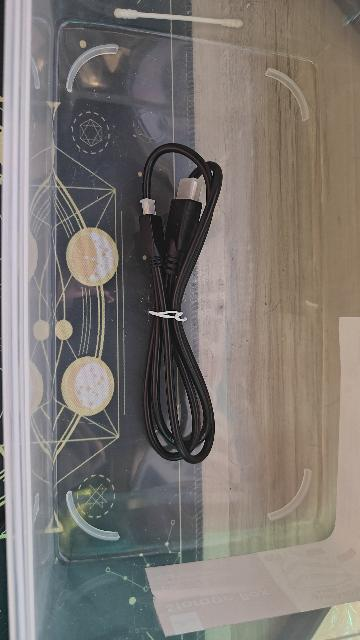hdmi_cable: (132, 138, 229, 468)
